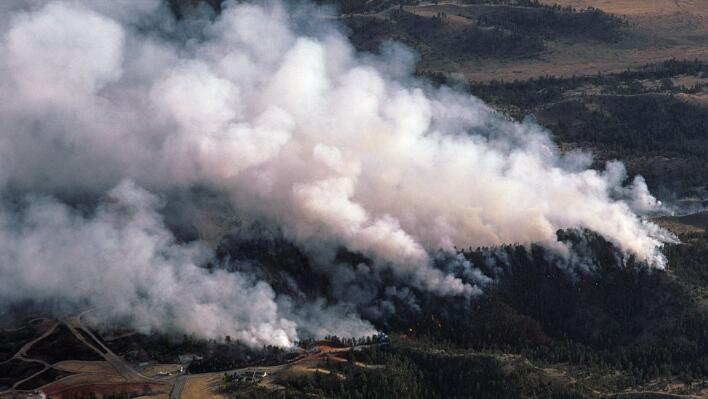yanwu: (1, 1, 683, 351)
